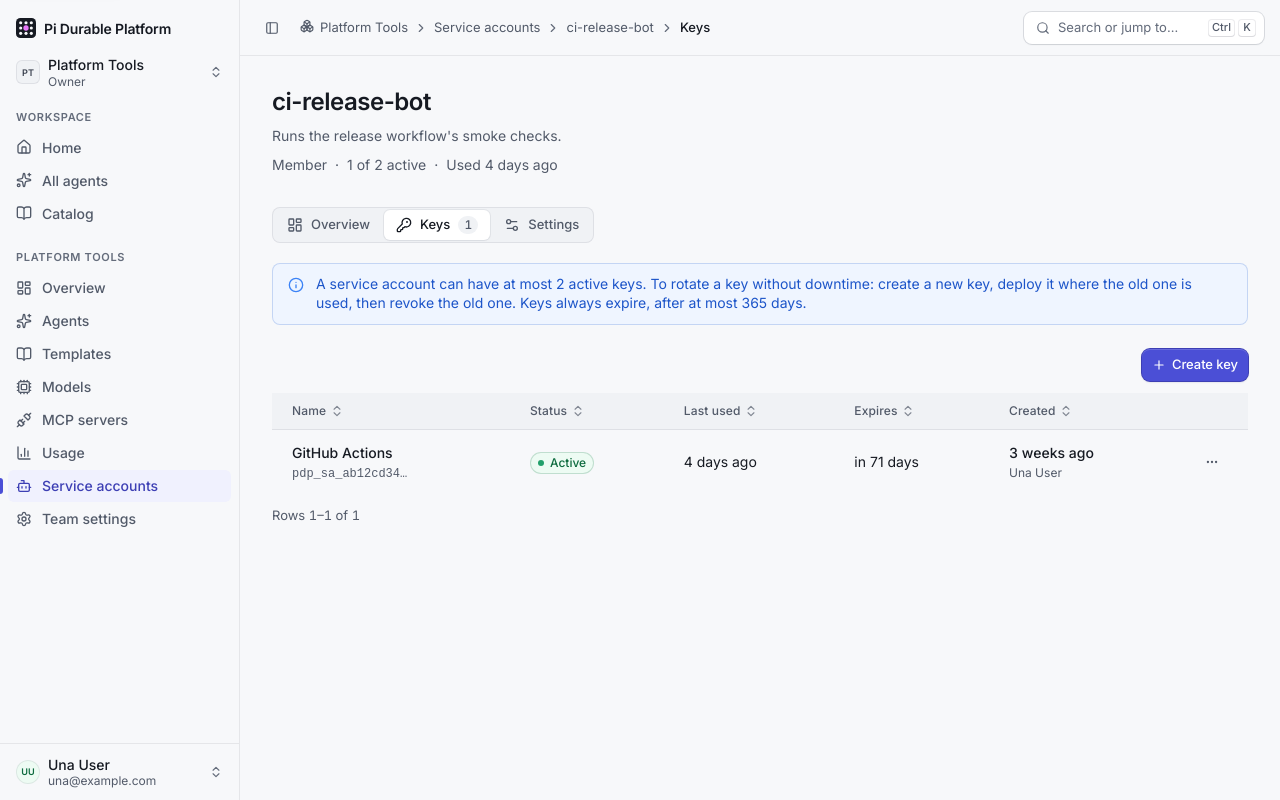
Test: Service account › Keys › creates a key and shows its secret once, with the rotation steps
The width and height of the screenshot is (1280, 800).
Check: the text "GitHub Actions" shows "pdp_sa_ab12cd34…", box [272,430,1248,494]
Check: the text "at most 2 active keys" shows "create a new key, deploy it where the old one is used, then revoke the old one", box [316,275,1192,311]
Click the button "Create key". click: click(1195, 365)
box: [1142,349,1248,381]
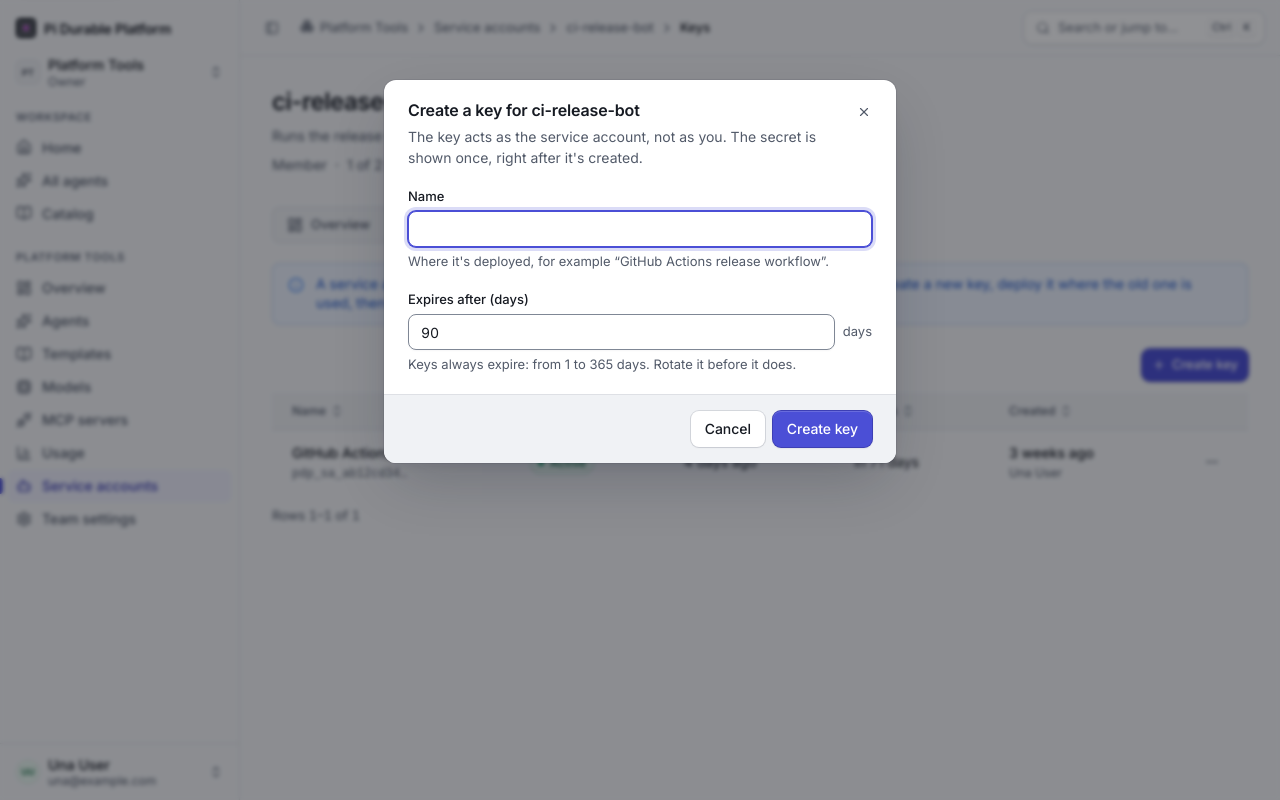
Click the button "Create key". click: click(822, 429)
box: [773,411,872,447]
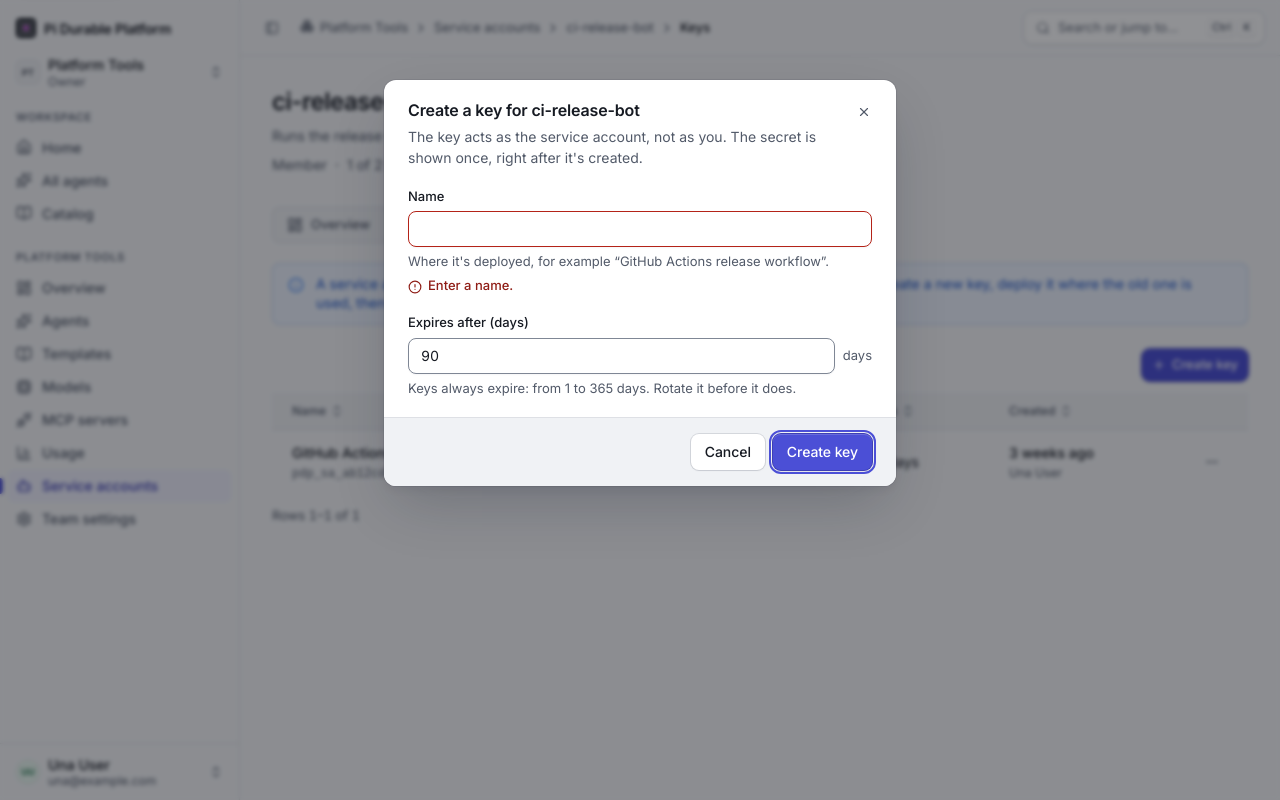
Check: the text "Enter a name." is shown, box [428,277,513,294]
Type "Release workflow" into the field labelled "Name". click: (640, 229)
box: [408,211,872,247]
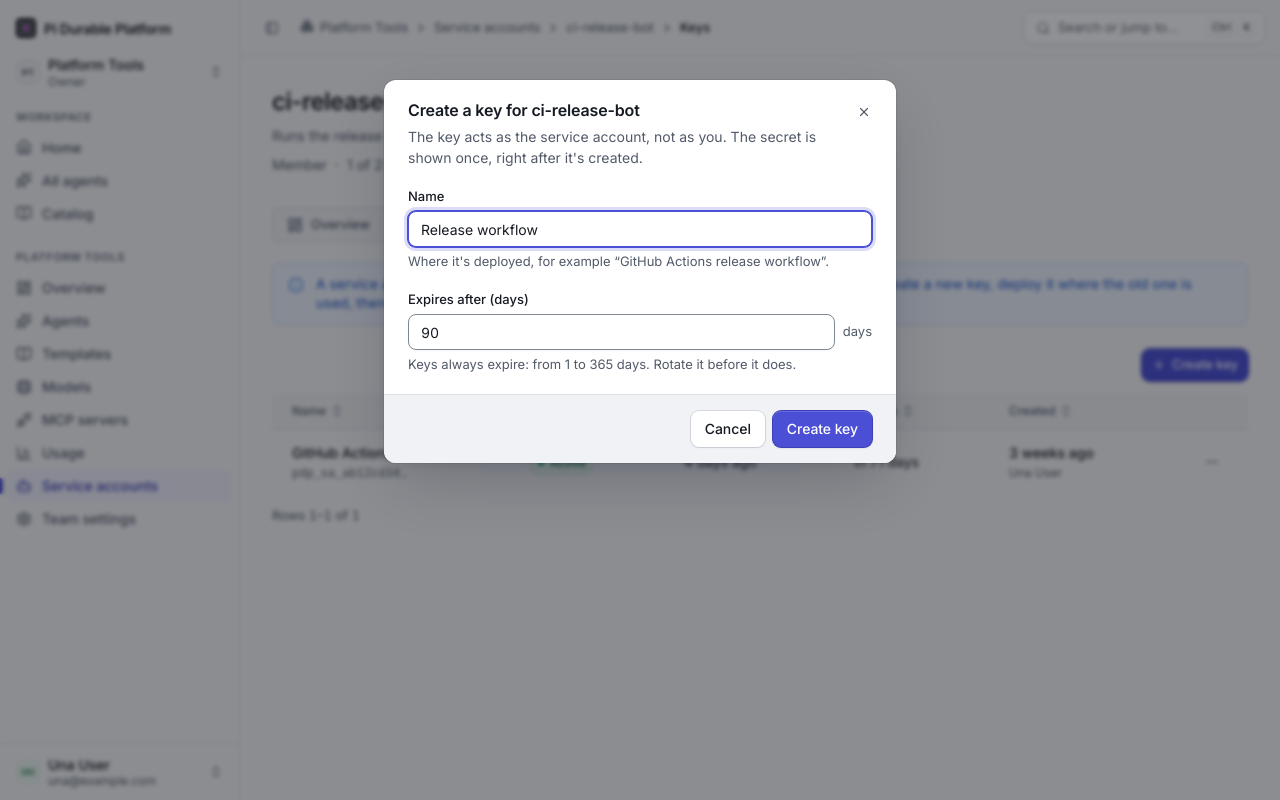
Click the button "Create key". click: click(822, 429)
box: [773,411,872,447]
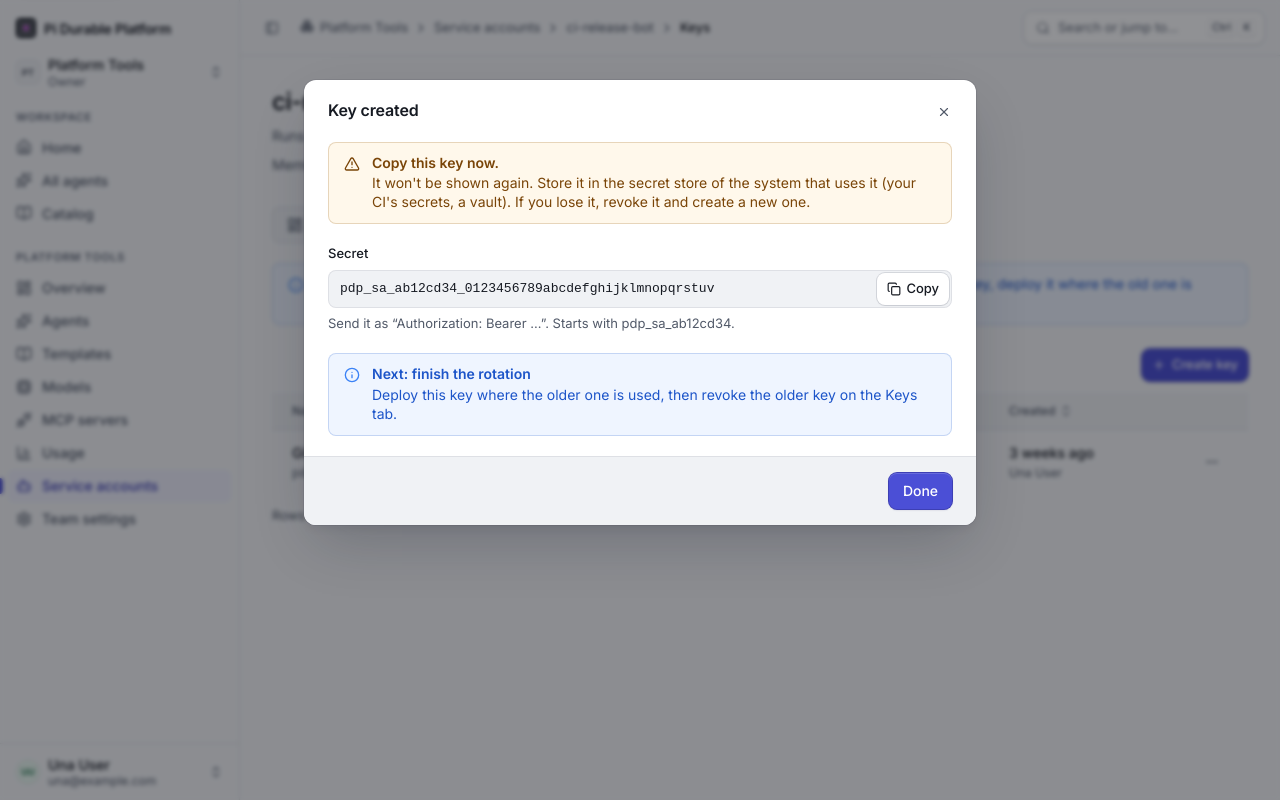
Check: the text "Copy this key now." is shown, box [372,154,499,171]
Check: the text "It won't be shown again" is shown, box [372,174,916,210]
Check: the text "pdp_sa_ab12cd34_0123456789abcdefghijklmnopqrstuv" is shown, box [340,281,714,296]
Click the button "Done". click: click(921, 491)
box: [889,473,952,509]
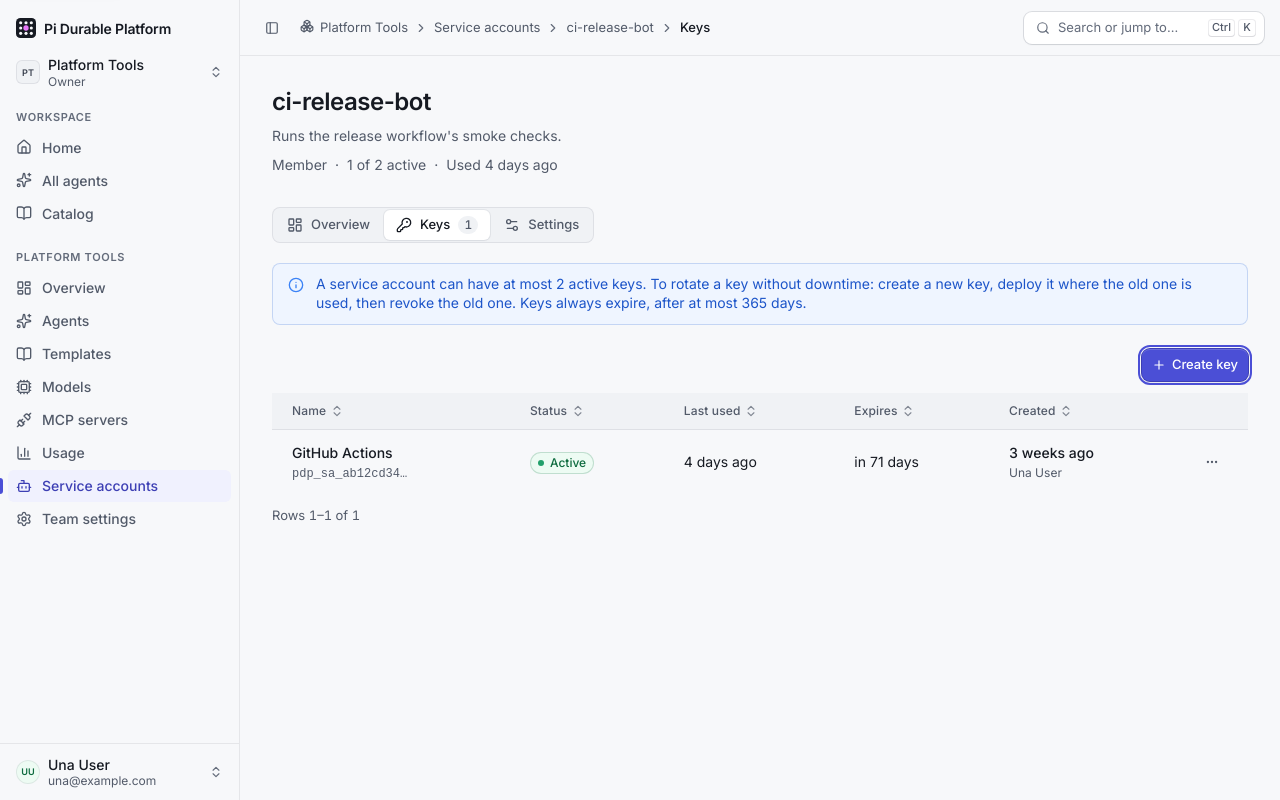
Check: the heading "Key created" is gone
Check: the text "pdp_sa_ab12cd34_0123456789abcdefghijklmnopqrstuv" is gone
